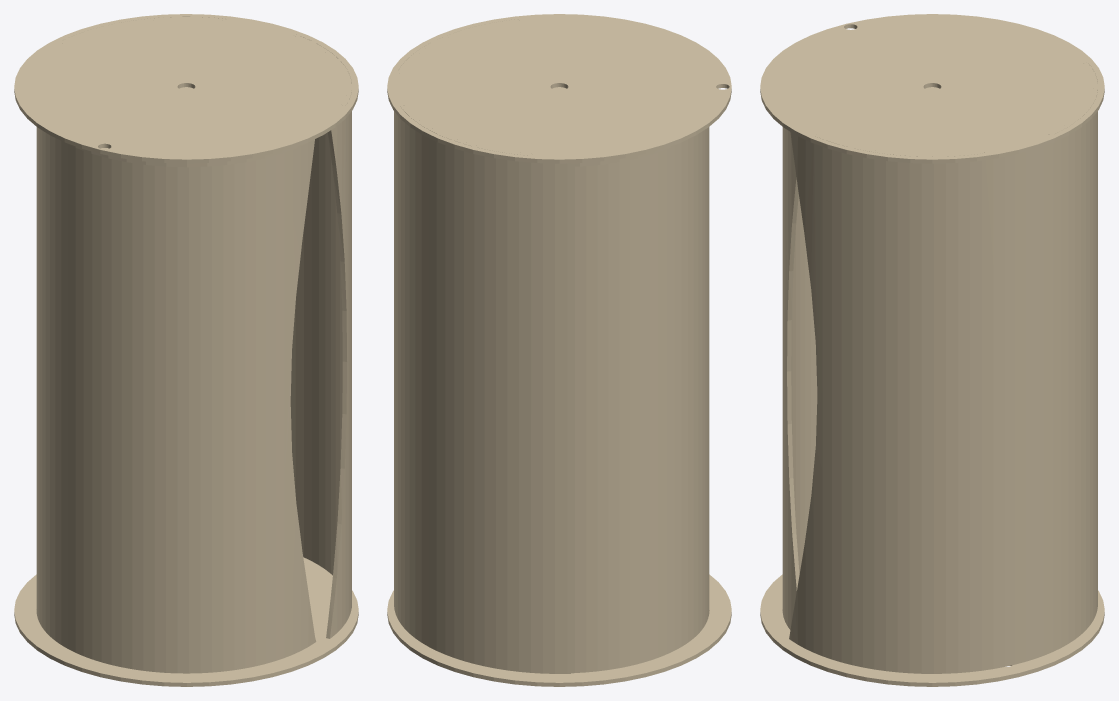
The model's file is samla.glb.
3 views of the same model, side by side, from view 1: azimuth 30°, elevation 25°; view 2: azimuth 150°, elevation 25°; view 3: azimuth 270°, elevation 25° (orthographic).
Visible parts, largest first — view 1: slicer-augestemning; view 2: slicer-augestemning; view 3: slicer-augestemning.
Boxes of the visible parts, x1=… form: slicer-augestemning: x1=14, y1=14, x2=358, y2=686; slicer-augestemning: x1=387, y1=14, x2=731, y2=686; slicer-augestemning: x1=760, y1=14, x2=1104, y2=686.
Size of the model in its own units: 0.154 by 0.26 by 0.154.
